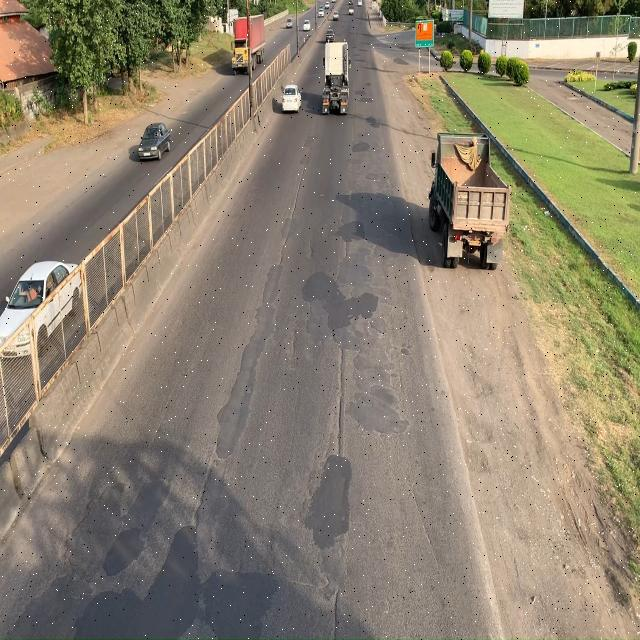Truck: (430, 130, 511, 276), (228, 6, 263, 74), (324, 42, 350, 116)
cars: (0, 248, 89, 363), (137, 120, 174, 169), (280, 80, 301, 118)
